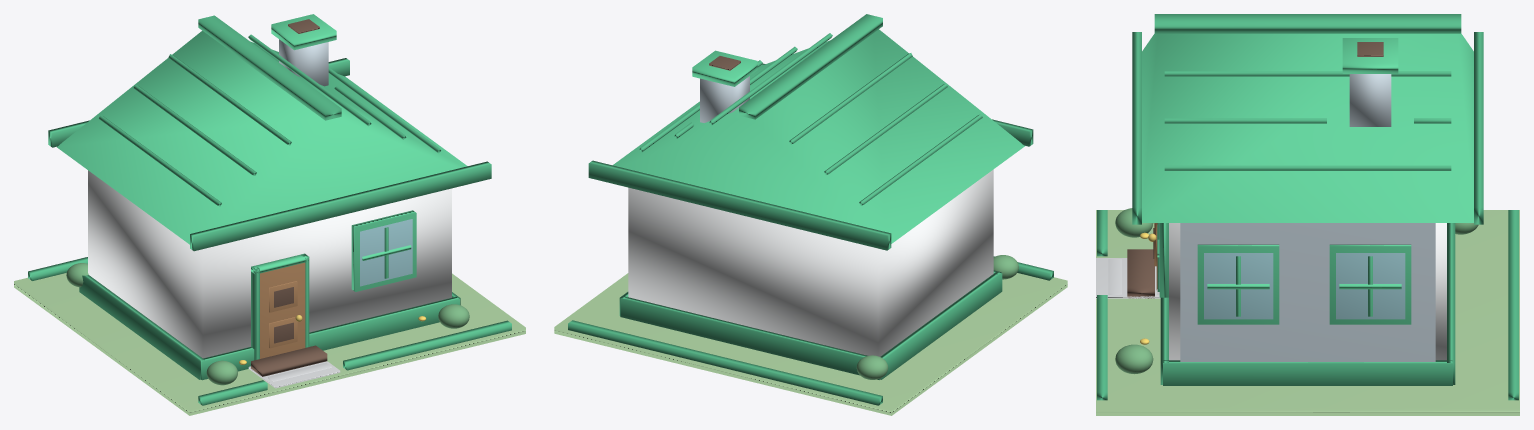
File: casa_detallada_green.glb
3 renders of one model, left to right at view 1: azimuth 30°, elevation 25°; view 2: azimuth 150°, elevation 25°; view 3: azimuth 270°, elevation 25°, orthographic. The views are drawn at different scales.
Visible parts, largest first — view 1: Casa_Techo_Rojo_Detallado, Casa_Paredes_Suaves, Casa_Grama_Base_Redondeada, Casa_Techo_Fascia_Frontal, Casa_Zocalo_Frontal_Rojo, Casa_Techo_Cumbrera_Roja, Casa_Zocalo_Izquierdo_Rojo, Ventana_Frontal_Principal_Cristal, Puerta_Cuerpo_Madera, Casa_Borde_Base_Frontal_Derecho, Ventana_Frontal_Principal_Marco_Azul, Casa_Chimenea_Cuerpo (+17 smaller); view 2: Casa_Techo_Rojo_Detallado, Casa_Paredes_Suaves, Casa_Grama_Base_Redondeada, Casa_Techo_Fascia_Trasero, Casa_Zocalo_Trasero_Rojo, Casa_Borde_Base_Trasero, Casa_Techo_Cumbrera_Roja, Casa_Zocalo_Izquierdo_Rojo, Casa_Chimenea_Cuerpo, Casa_Chimenea_Tapa_Roja, Casa_Techo_Linea_Teja_Der_1, Casa_Techo_Linea_Teja_Izq_2 (+5 smaller); view 3: Casa_Techo_Rojo_Detallado, Casa_Grama_Base_Redondeada, Casa_Pared_Lateral_Azulada, Casa_Zocalo_Derecho_Rojo, Casa_Techo_Cumbrera_Roja, Ventana_Lateral_Frontal_Cristal, Ventana_Lateral_Trasera_Cristal, Casa_Paredes_Suaves, Casa_Chimenea_Cuerpo, Ventana_Lateral_Frontal_Marco_Azul, Ventana_Lateral_Trasera_Marco_Azul, Casa_Borde_Base_Trasero (+17 smaller).
Boxes of the visible parts, <box> form: Casa_Techo_Rojo_Detallado: <box>57,30,467,244</box>; Casa_Paredes_Suaves: <box>88,170,451,358</box>; Casa_Grama_Base_Redondeada: <box>14,273,525,415</box>; Casa_Techo_Fascia_Frontal: <box>190,161,491,251</box>; Casa_Zocalo_Frontal_Rojo: <box>200,296,459,380</box>; Casa_Techo_Cumbrera_Roja: <box>198,15,341,120</box>; Casa_Zocalo_Izquierdo_Rojo: <box>79,275,204,379</box>; Ventana_Frontal_Principal_Cristal: <box>360,219,412,286</box>; Puerta_Cuerpo_Madera: <box>260,262,305,358</box>; Casa_Borde_Base_Frontal_Derecho: <box>343,320,511,370</box>; Ventana_Frontal_Principal_Marco_Azul: <box>351,210,416,291</box>; Casa_Chimenea_Cuerpo: <box>279,39,328,86</box>; Casa_Techo_Rojo_Detallado: <box>613,29,1024,243</box>; Casa_Paredes_Suaves: <box>628,169,993,356</box>; Casa_Grama_Base_Redondeada: <box>554,273,1067,415</box>; Casa_Techo_Fascia_Trasero: <box>588,160,891,250</box>; Casa_Zocalo_Trasero_Rojo: <box>620,296,879,379</box>; Casa_Borde_Base_Trasero: <box>568,320,882,405</box>; Casa_Techo_Cumbrera_Roja: <box>739,14,882,119</box>; Casa_Zocalo_Izquierdo_Rojo: <box>880,272,1002,379</box>; Casa_Chimenea_Cuerpo: <box>700,76,749,122</box>; Casa_Chimenea_Tapa_Roja: <box>692,50,757,86</box>; Casa_Techo_Linea_Teja_Der_1: <box>709,33,832,124</box>; Casa_Techo_Linea_Teja_Izq_2: <box>824,83,947,174</box>; Casa_Techo_Rojo_Detallado: <box>1142,33,1473,222</box>; Casa_Grama_Base_Redondeada: <box>1096,210,1519,415</box>; Casa_Pared_Lateral_Azulada: <box>1180,223,1435,361</box>; Casa_Zocalo_Derecho_Rojo: <box>1163,360,1452,385</box>; Casa_Techo_Cumbrera_Roja: <box>1154,14,1461,33</box>; Ventana_Lateral_Frontal_Cristal: <box>1204,253,1273,319</box>; Ventana_Lateral_Trasera_Cristal: <box>1336,253,1405,319</box>; Casa_Paredes_Suaves: <box>1169,223,1446,360</box>; Casa_Chimenea_Cuerpo: <box>1349,74,1391,126</box>; Ventana_Lateral_Frontal_Marco_Azul: <box>1197,244,1279,324</box>; Ventana_Lateral_Trasera_Marco_Azul: <box>1329,244,1411,324</box>; Casa_Borde_Base_Trasero: <box>1508,210,1518,400</box>.
Bounding box in the file's own units: 1.35 × 0.9689 × 1.22.
